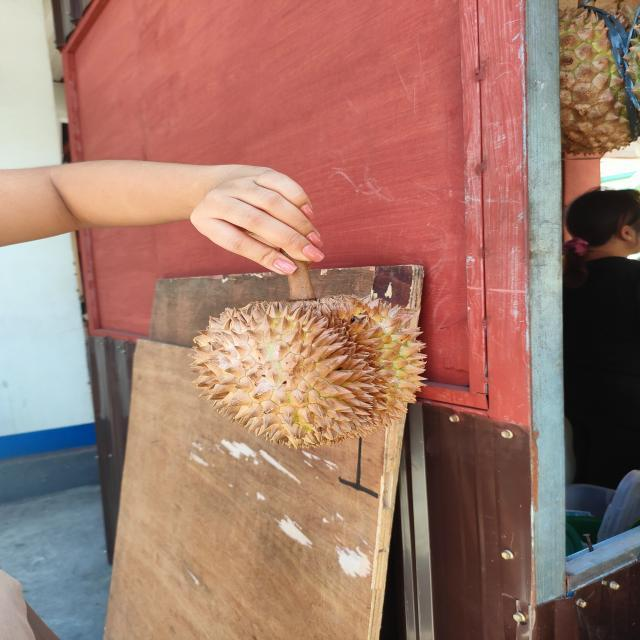mature: (187, 293, 429, 449)
